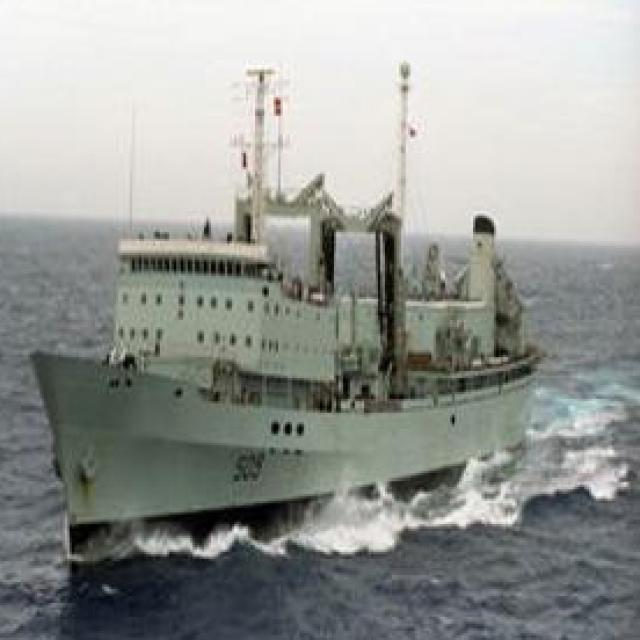navalvessels: (2, 61, 584, 540)
